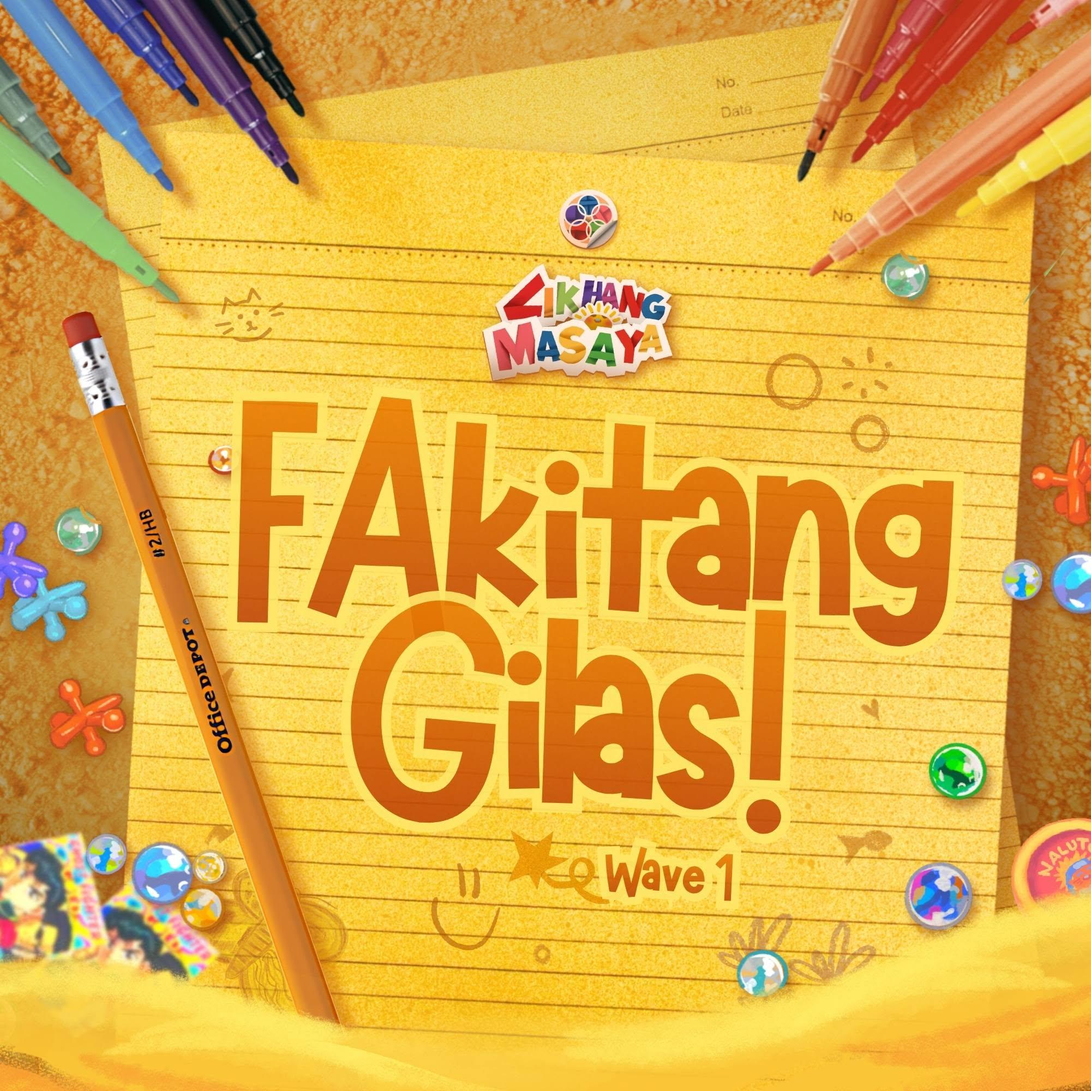embellishment: (62, 310, 343, 1027), (798, 22, 1088, 289), (795, 0, 1090, 188), (0, 48, 190, 309), (79, 1, 313, 191), (0, 0, 182, 201), (83, 829, 231, 932), (2, 515, 94, 650), (46, 669, 132, 760), (1000, 547, 1090, 618), (1024, 431, 1090, 527), (903, 860, 975, 932), (929, 739, 990, 800), (874, 247, 937, 302), (54, 502, 111, 559), (734, 947, 791, 999)
logo: (477, 262, 682, 390), (555, 185, 624, 254)
text: (221, 380, 976, 846), (599, 833, 743, 915)
underlay: (147, 124, 999, 942)
